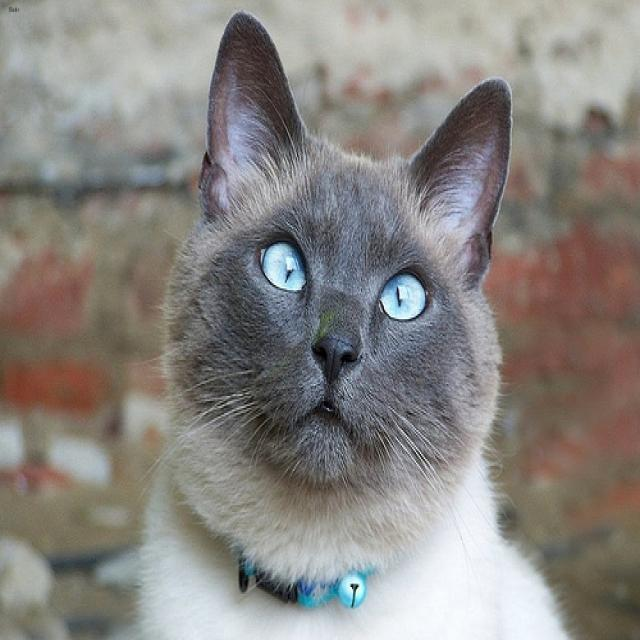Siamese: (162, 12, 513, 573)
